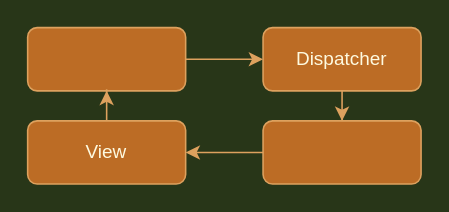
Image size: 449x212. Some labels were removed from this diagram. Each missing label, with the box of its shape:
Action: (26, 26, 186, 91)
Store: (261, 119, 421, 184)
